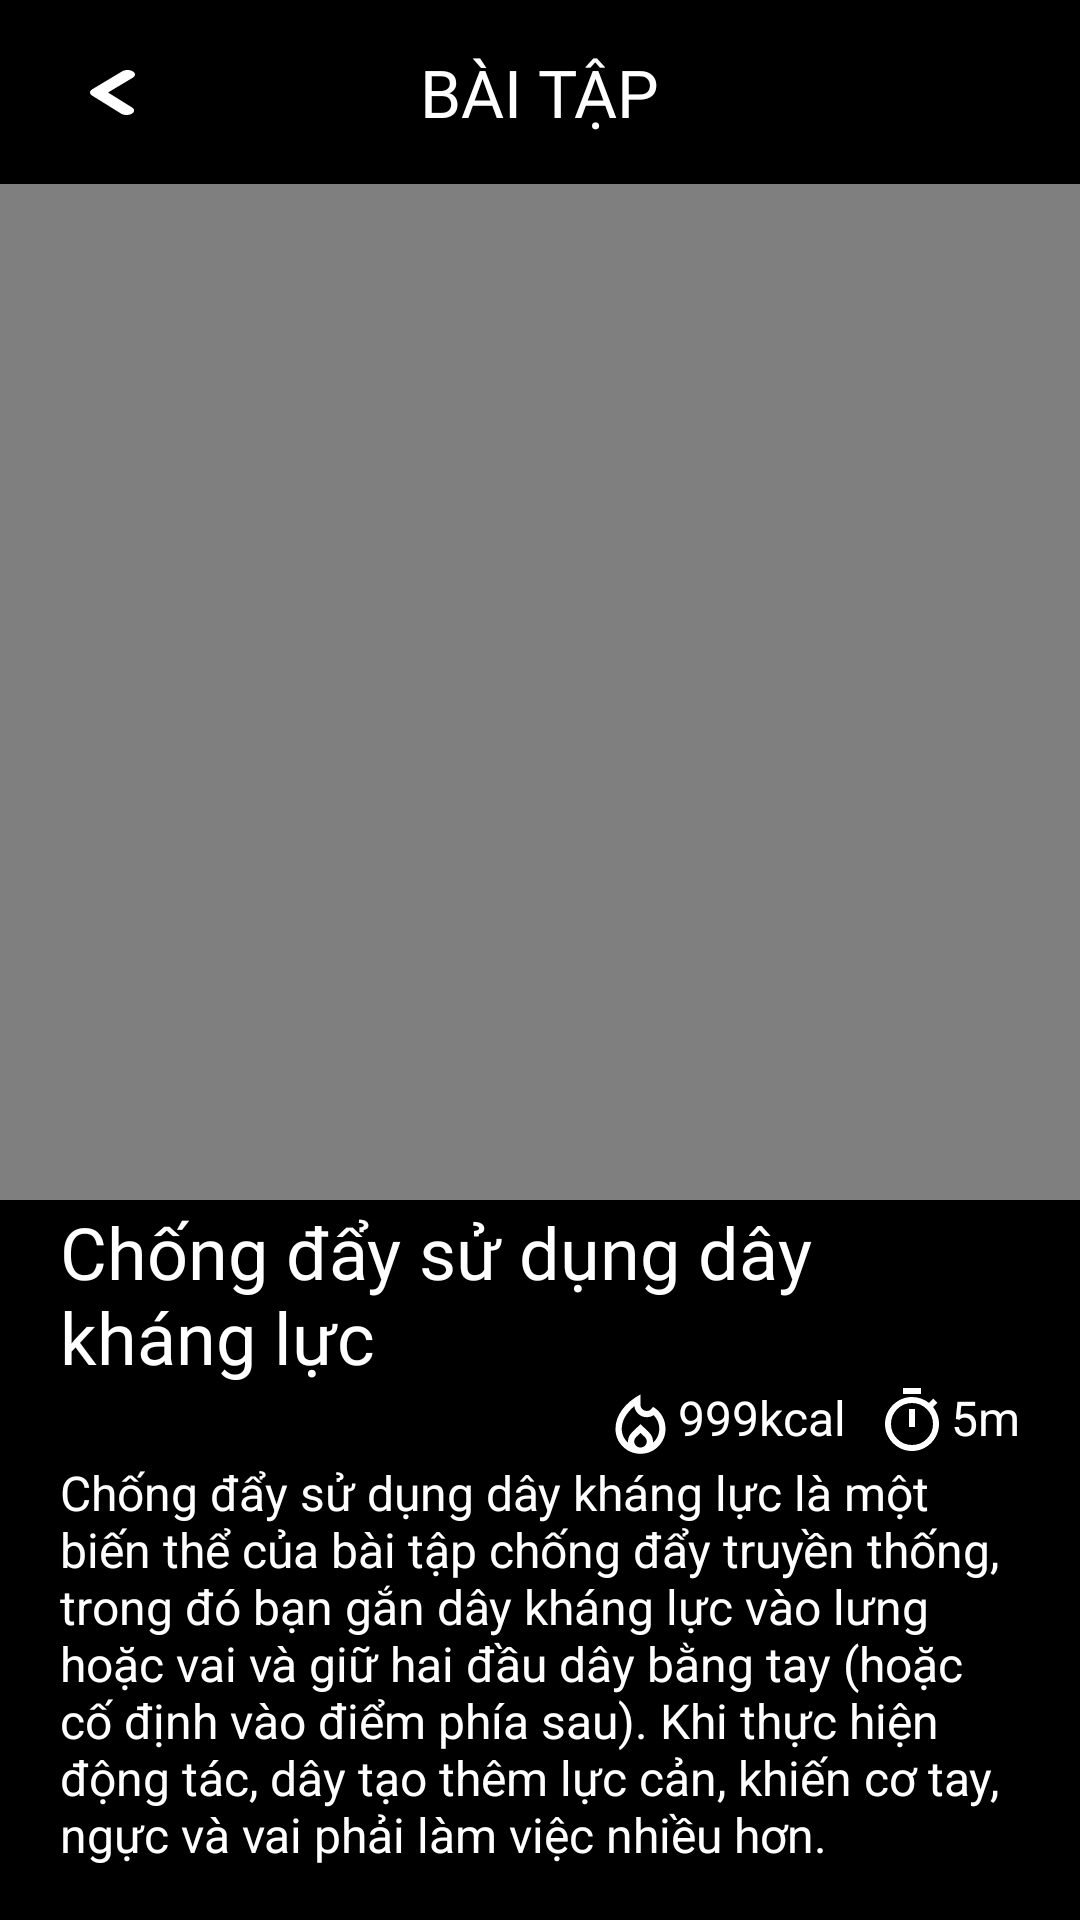

Locate icon controls on the screen. Image size 1080px x 1920px, boxes as {"left": x1, "top": y1, "right": x2, "bottom": y2}.
back: {"left": 90, "top": 70, "right": 135, "bottom": 115}
